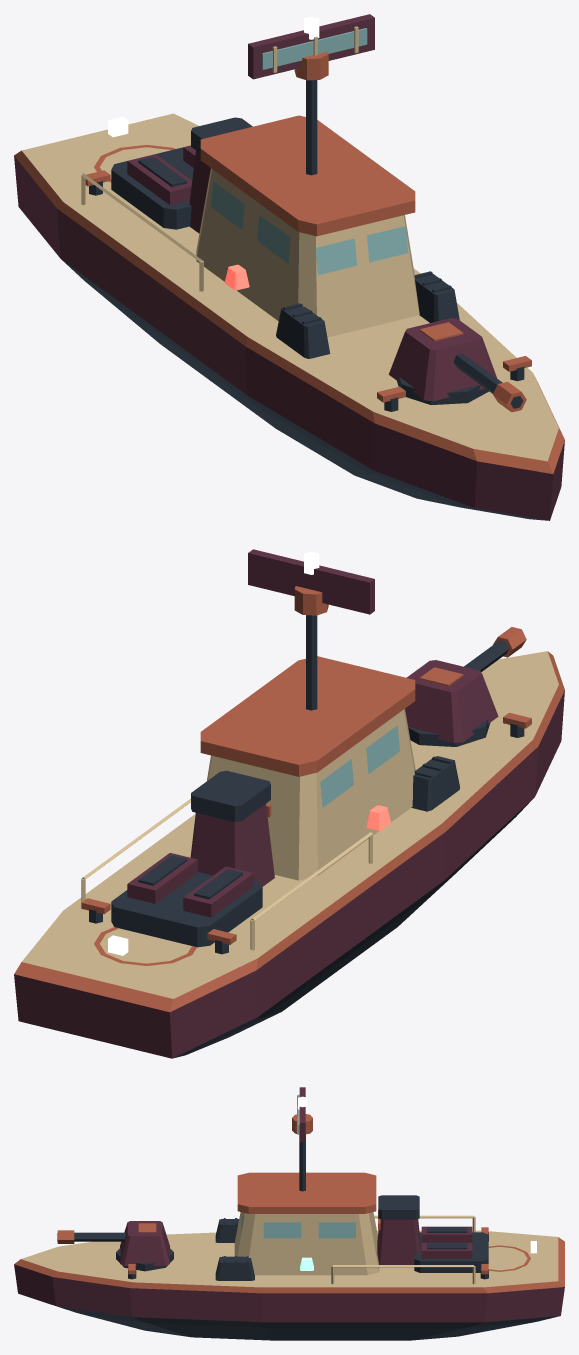
The model's file is destroyer-enemy.glb.
The picture shows the model from 3 angles, top to bottom: view 1: azimuth 30°, elevation 25°; view 2: azimuth 150°, elevation 25°; view 3: azimuth 270°, elevation 25°; orthographic projection. The views are drawn at different scales.
Parts seen in each view (by area): view 1: hull, turret, radar, funnel, barrel; view 2: hull, funnel, turret, radar, barrel; view 3: hull, funnel, turret, barrel, radar.
Boxes of the visible parts, x1,y1,x2,y2 form: hull: (14,80,564,520); turret: (388,318,496,404); radar: (248,14,374,80); funnel: (189,117,252,233); barrel: (453,353,526,412); hull: (14,615,564,1058); funnel: (190,770,274,886); turret: (405,660,498,746); radar: (248,549,374,615); barrel: (464,627,526,671); hull: (14,1134,564,1340); funnel: (377,1195,420,1264); turret: (116,1221,173,1271); barrel: (57,1230,125,1243); radar: (292,1087,312,1141).
Bounding box in the file's own units: 1.57 × 2.82 × 6.29.
